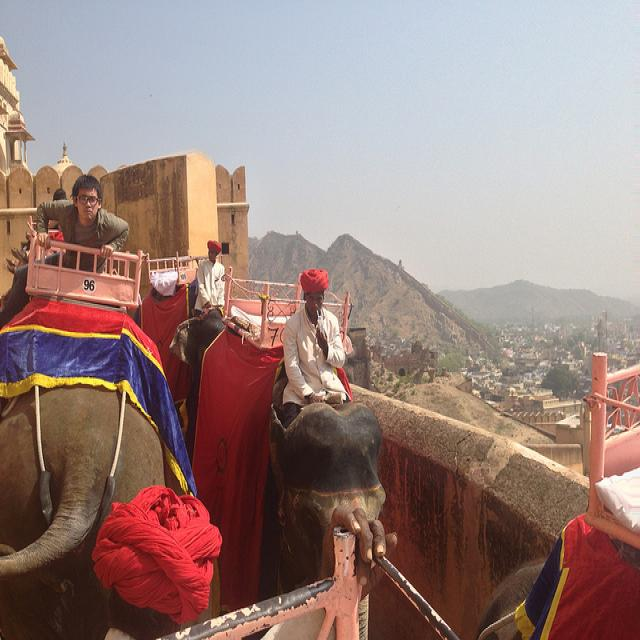Elephant: (169, 306, 394, 638), (0, 296, 199, 639)
person: (0, 173, 129, 329), (281, 266, 351, 426), (192, 240, 226, 317)
